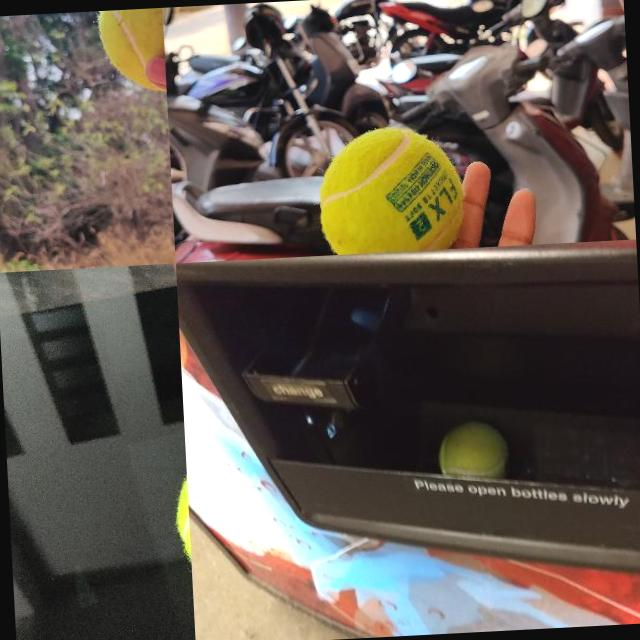Tennis Ball: (314, 123, 466, 254), (98, 8, 166, 95), (436, 419, 511, 474)
